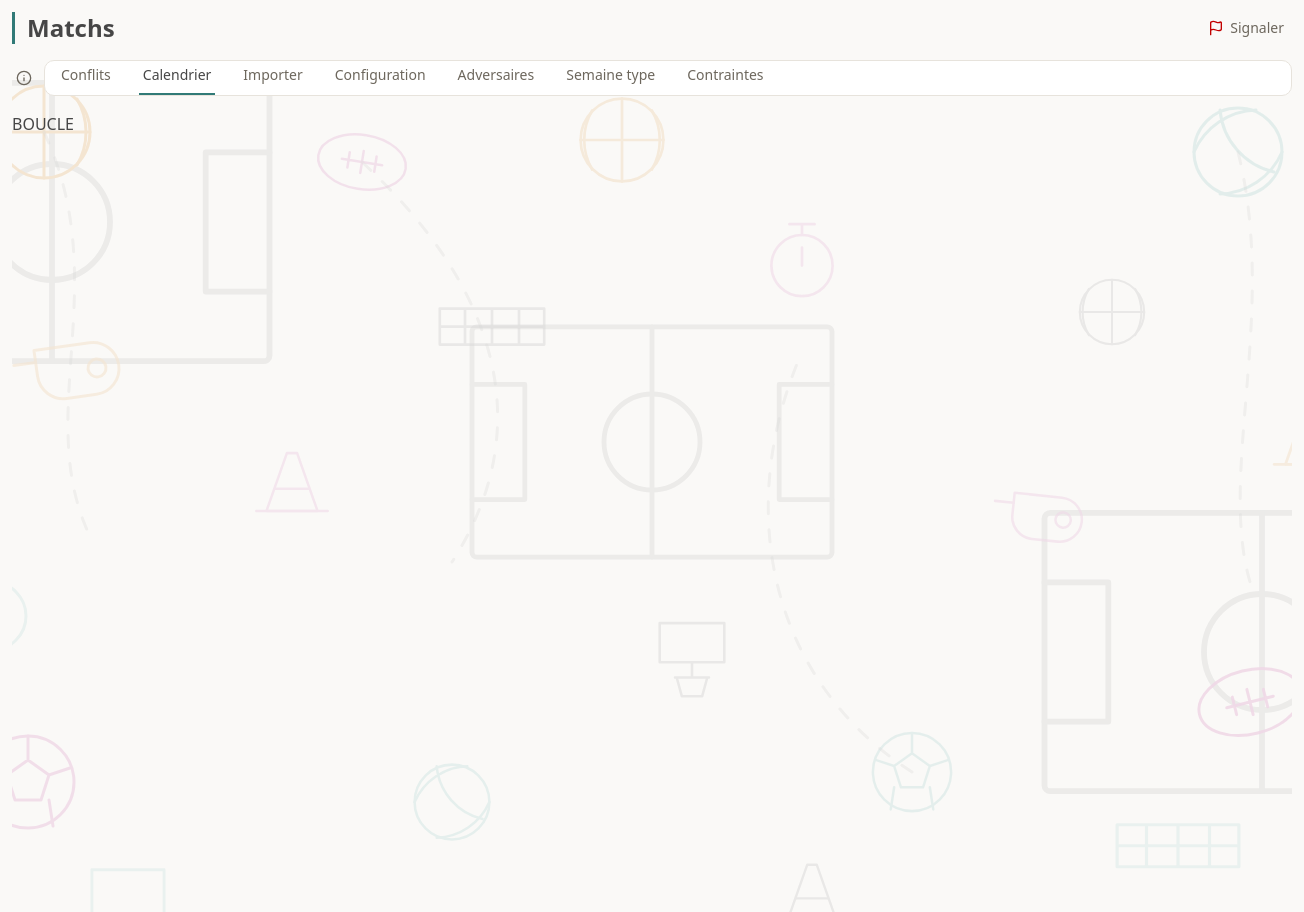
Test: MatchesLayout — le « gardien » (RMM-3, POST de visite) › ne re-POST pas à la navigation boucle⇄configuration (même montage de layout)
Click the link "Configuration".
click(380, 74)  # box [335, 65, 426, 84]
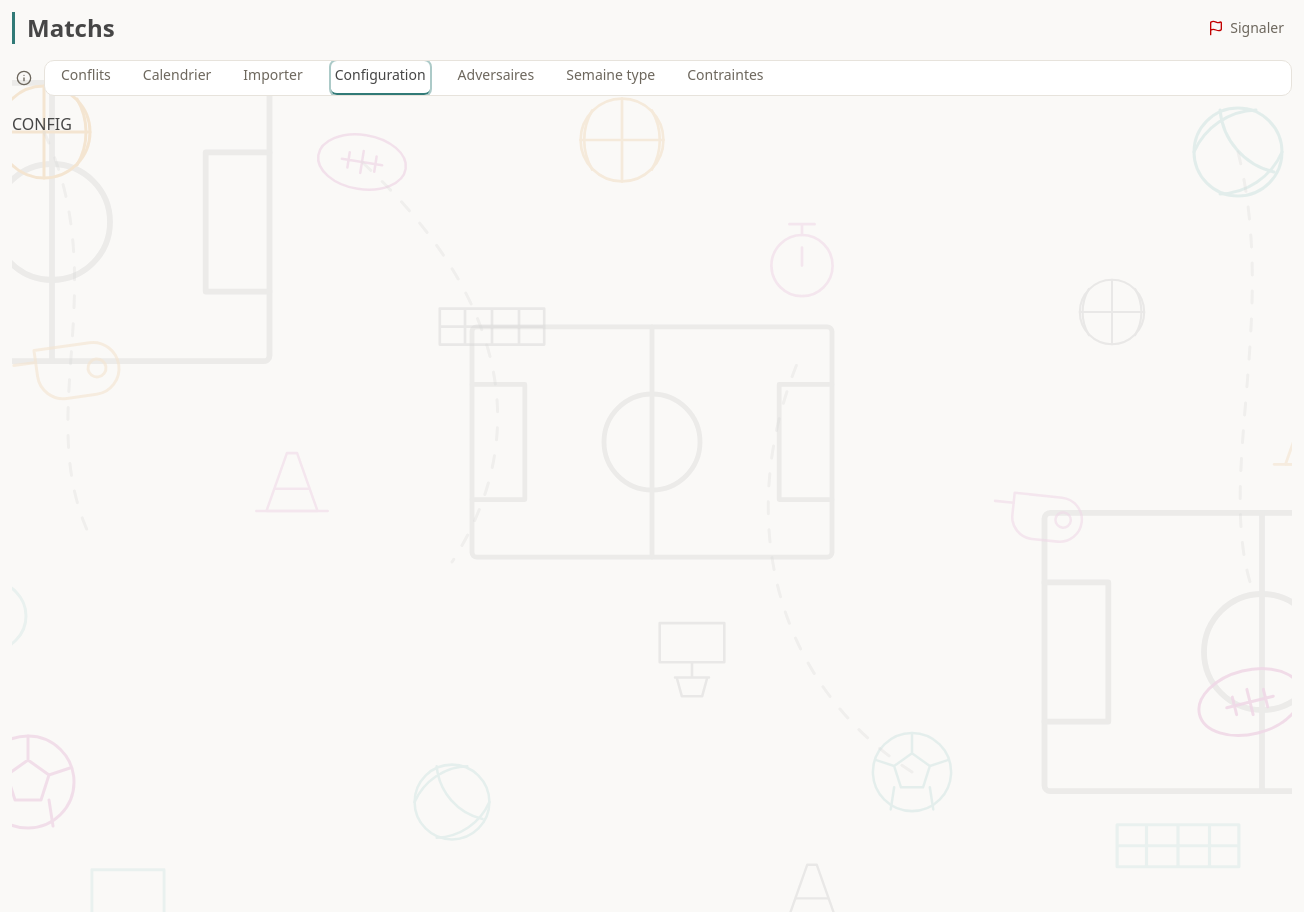
Now the text "CONFIG" is shown, box [12, 113, 72, 135]
Click the link "Calendrier".
click(177, 74)  # box [143, 65, 211, 84]
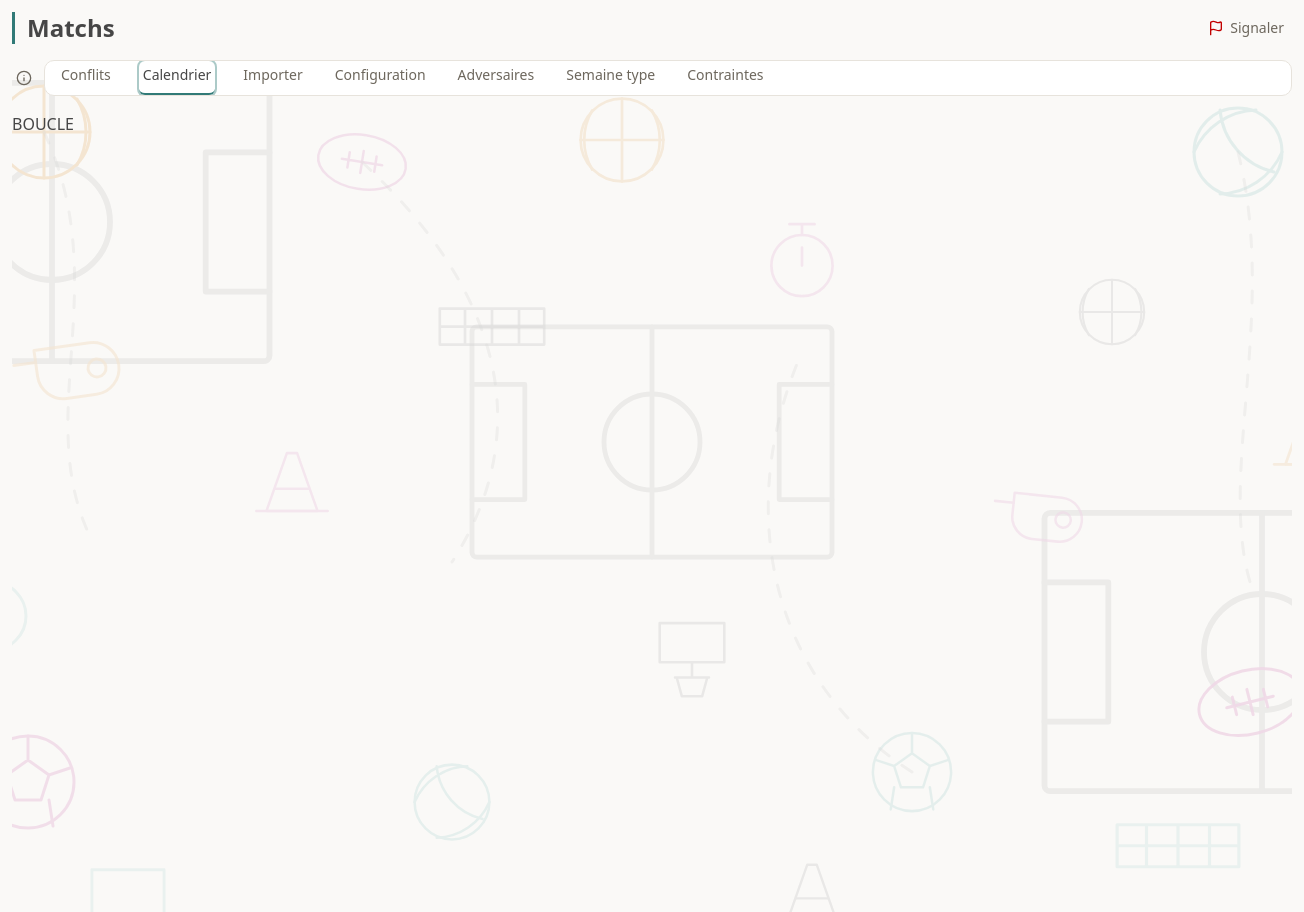
Now the text "BOUCLE" is shown, box [12, 113, 74, 135]
